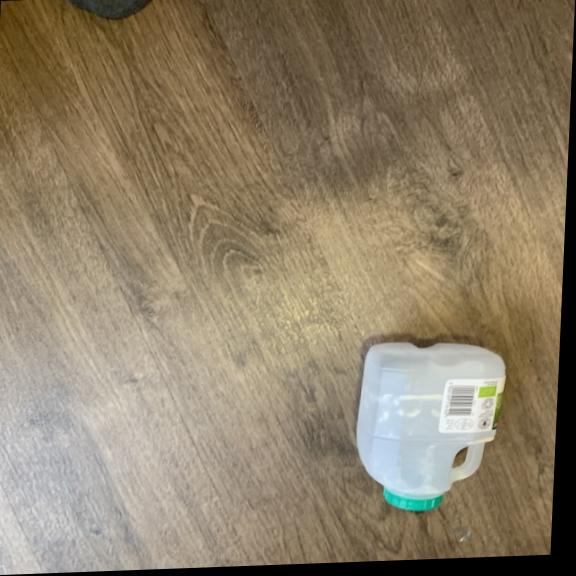Plastik: (348, 330, 509, 517)
